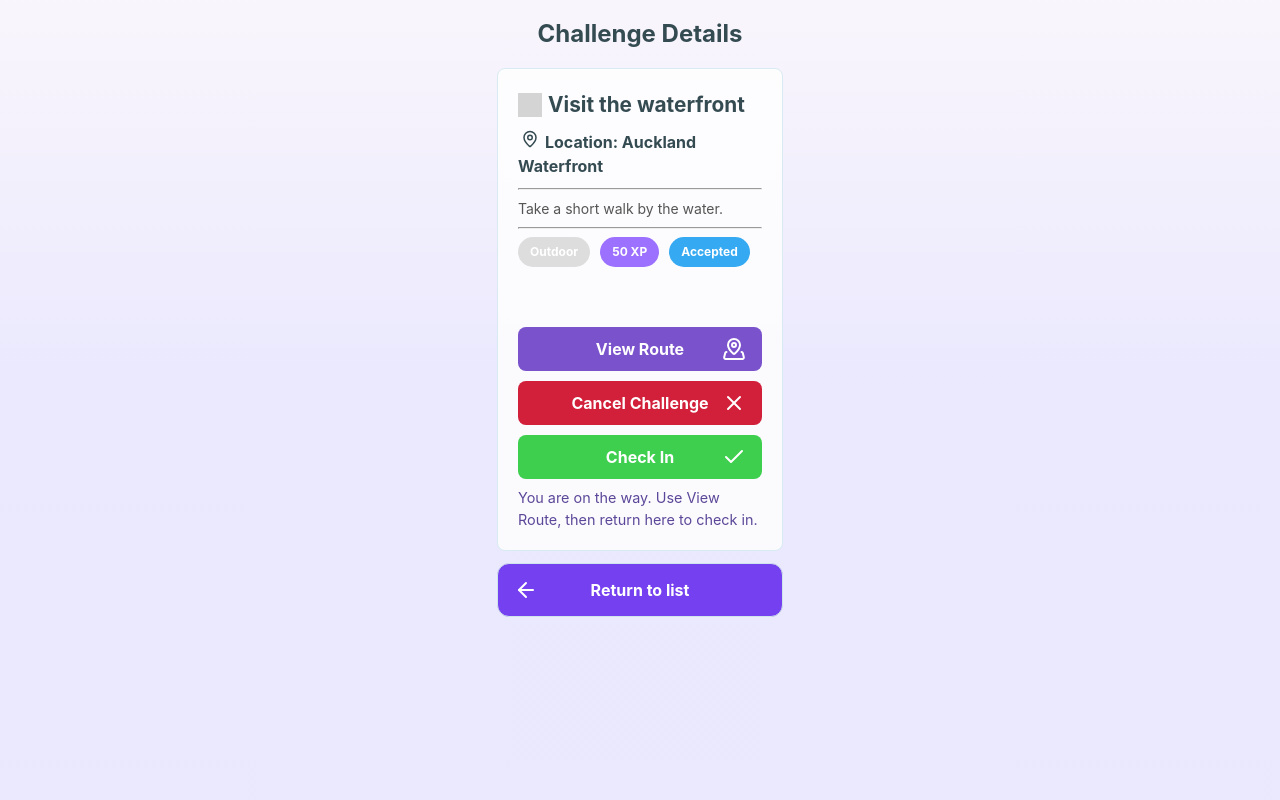
Scenario: ChallengeDetailView › API/service request handling › shows a fallback error when browser geolocation fails
Step 1. Click the button "Check In" → (640, 457), box [518,435,762,479]
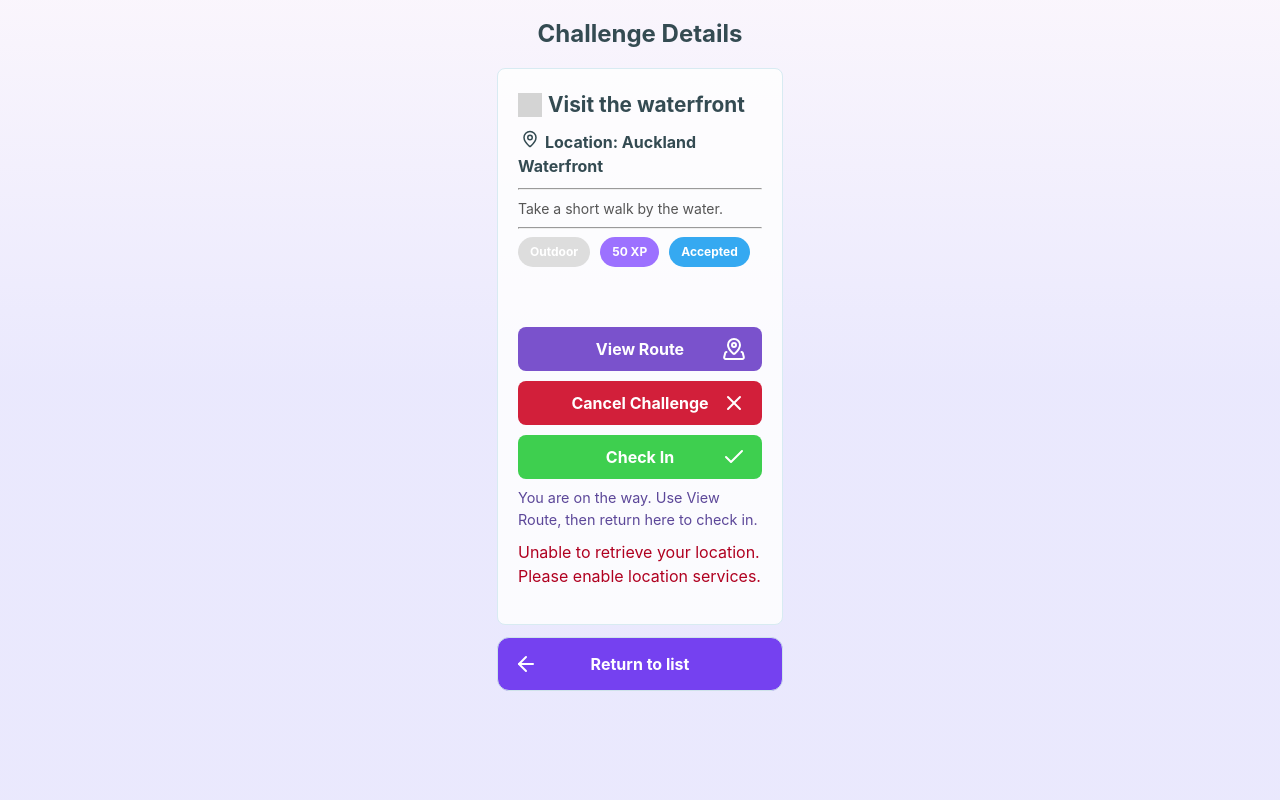
Result: the text "Unable to retrieve your location. Please enable location services." is shown at [518,540,762,588]
